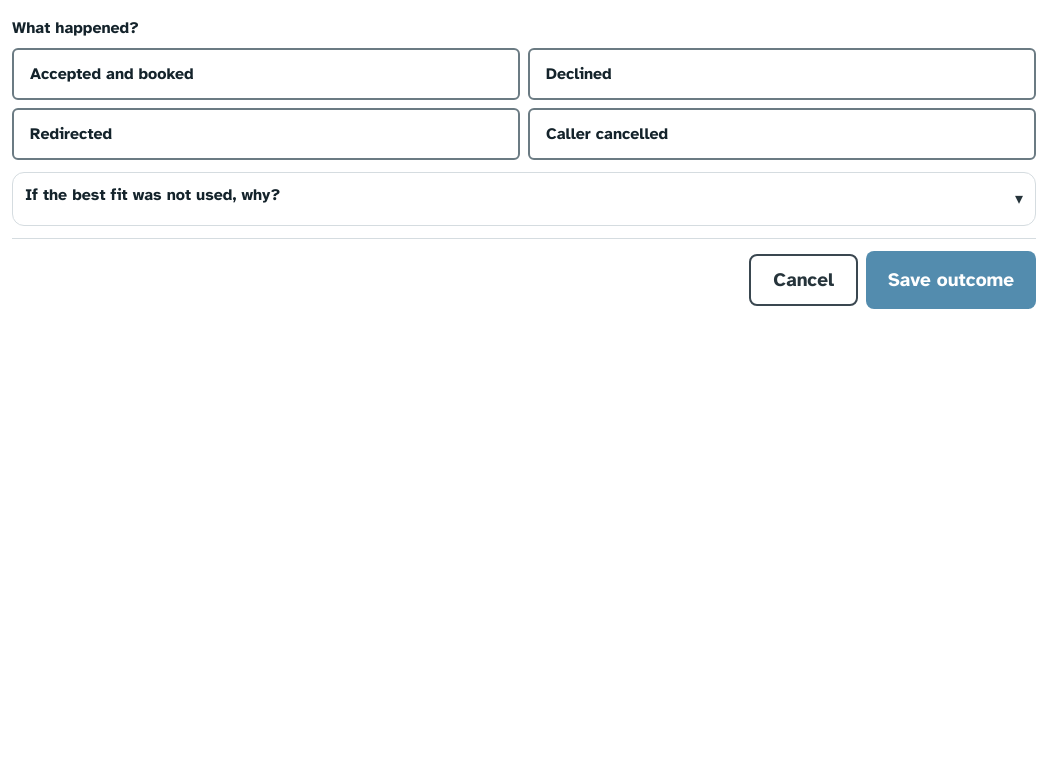
Test case: the destination of an outcome (W15) › asks which service the call went to for "Accepted and booked", and saves with it
Later steps or results of the test are not shown.
Click the button "Accepted and booked".
click(112, 74)  # box [12,48,520,100]
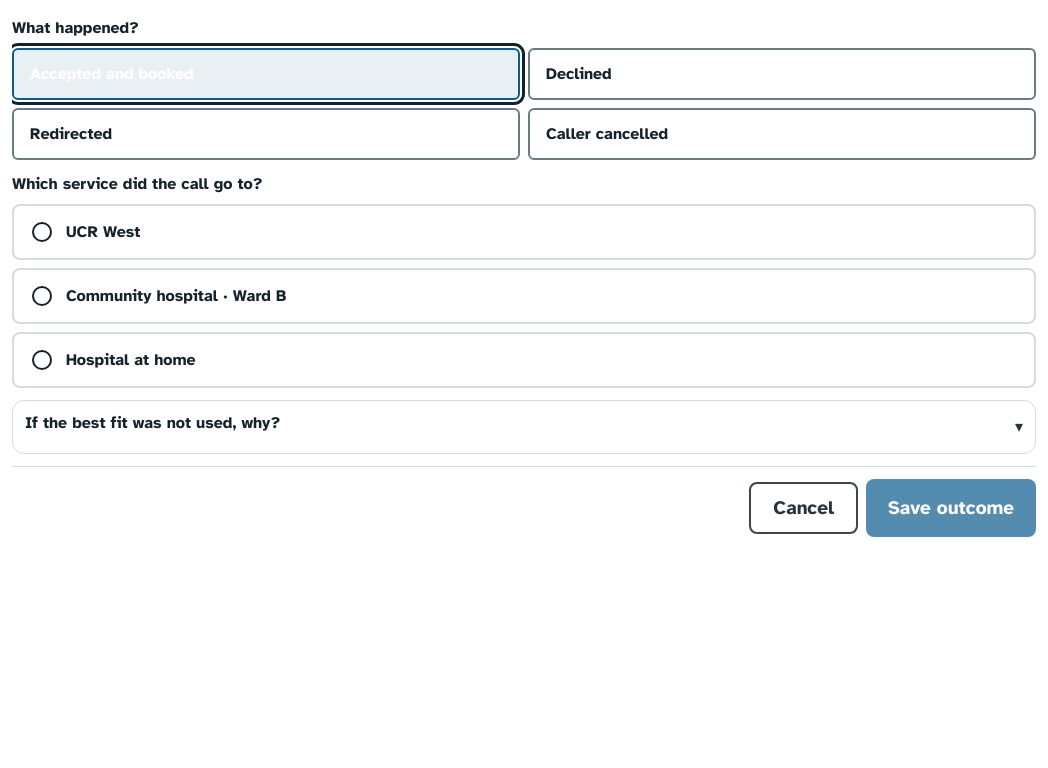
Click the button "UCR West".
click(103, 232)  # box [12,204,1036,260]
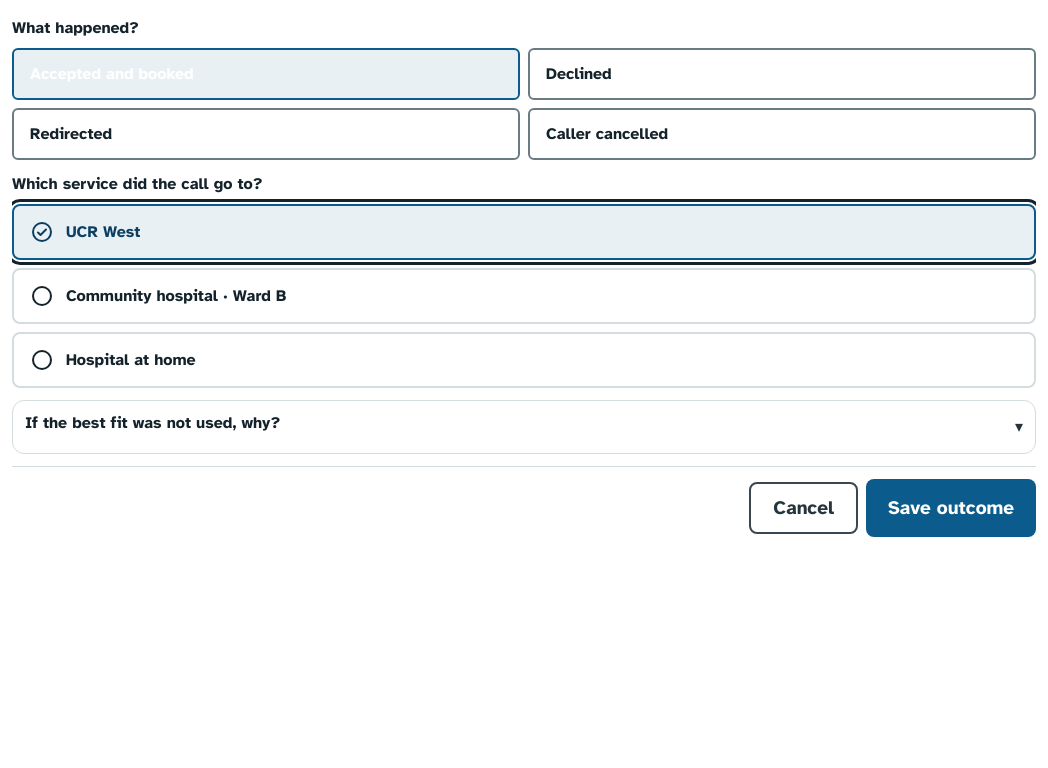
Now the element "Which service did the call go to?" is shown, box [12,172,1036,388]
